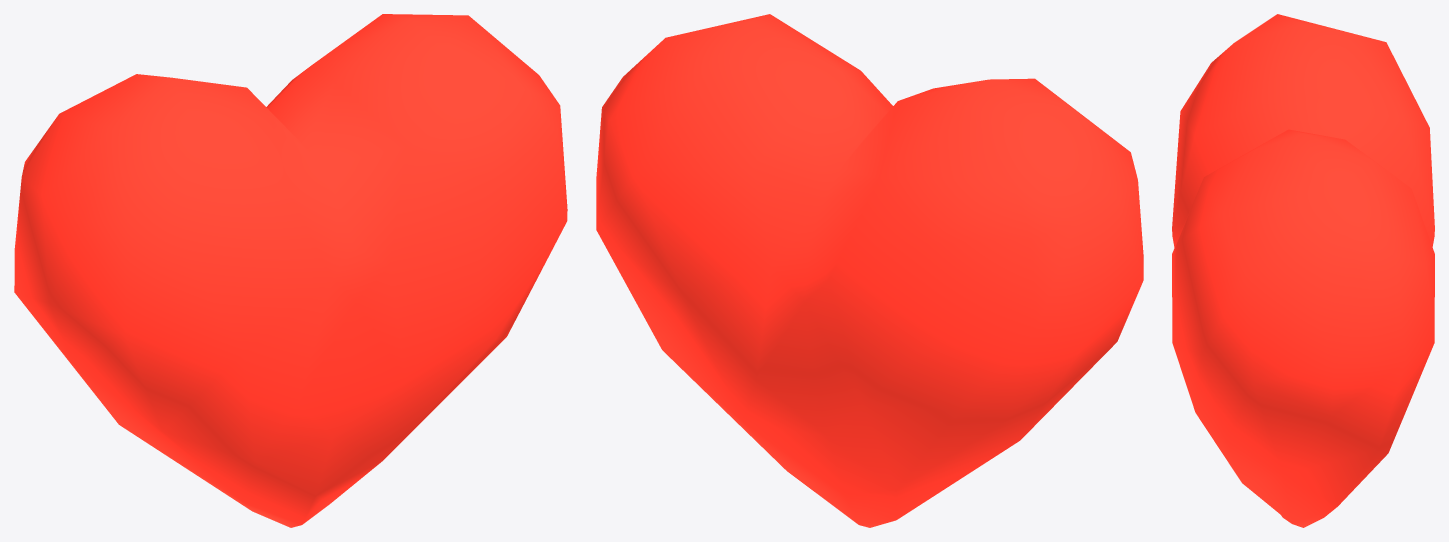
File: Heart.glb
3 renders of one model, left to right at view 1: azimuth 30°, elevation 25°; view 2: azimuth 150°, elevation 25°; view 3: azimuth 270°, elevation 25°, orthographic. The views are drawn at different scales.
Parts seen in each view (by area): view 1: Heart; view 2: Heart; view 3: Heart.
Boxes of the visible parts, x1,y1,x2,y2 form: Heart: [14, 14, 567, 527]; Heart: [596, 14, 1143, 527]; Heart: [1172, 14, 1434, 527].
Size of the model in its own units: 6.82 by 6.05 by 3.21.
